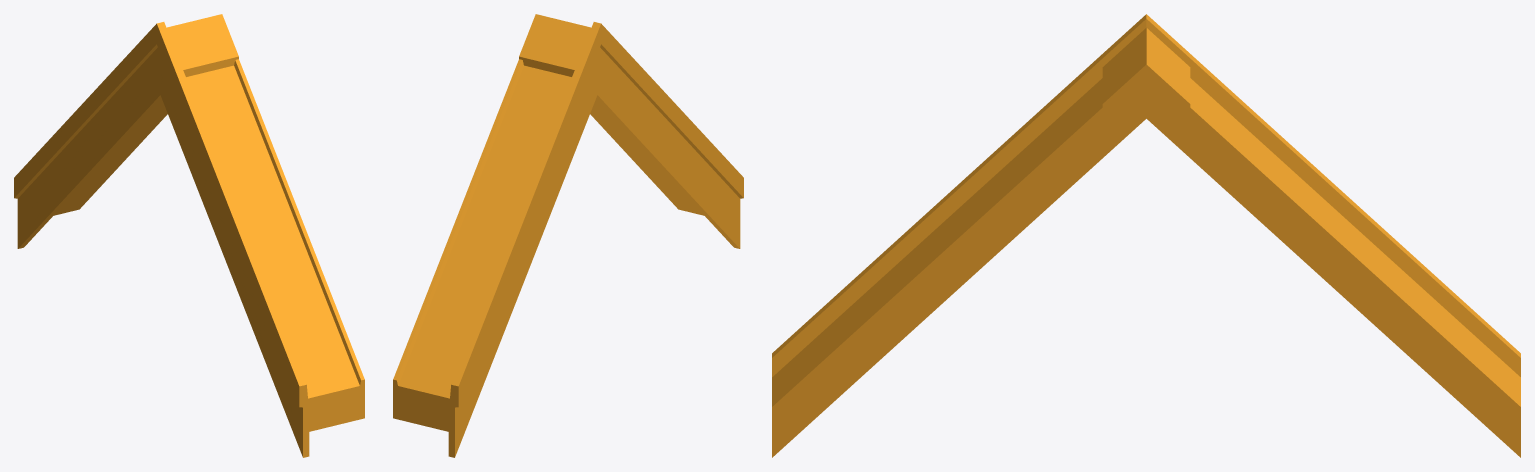
File: SM_Roof_Metal_Regular_2m_Front_Center.fbx
3 renders of one model, left to right at view 1: azimuth 30°, elevation 25°; view 2: azimuth 150°, elevation 25°; view 3: azimuth 270°, elevation 25°, orthographic. The views are drawn at different scales.
Parts seen in each view (by area): view 1: roof-metal-regular-2m-front-center; view 2: roof-metal-regular-2m-front-center; view 3: roof-metal-regular-2m-front-center.
Part boxes in pixels (x1,y1,x2,y2): roof-metal-regular-2m-front-center: [14, 14, 364, 457]; roof-metal-regular-2m-front-center: [393, 14, 743, 457]; roof-metal-regular-2m-front-center: [772, 14, 1520, 457].
Bounding box in the file's own units: 0.53 × 2.56 × 4.
